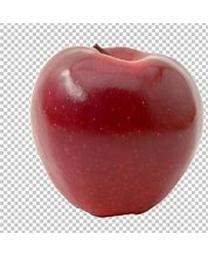apple: (29, 42, 203, 217)
